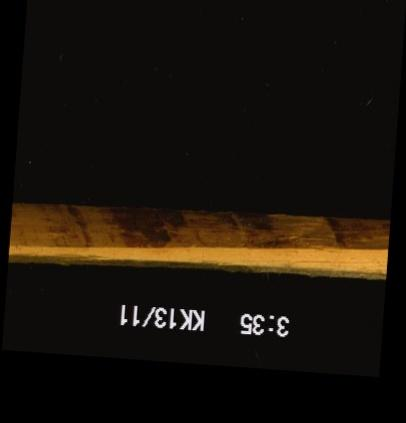wave: (9, 216, 386, 267)
